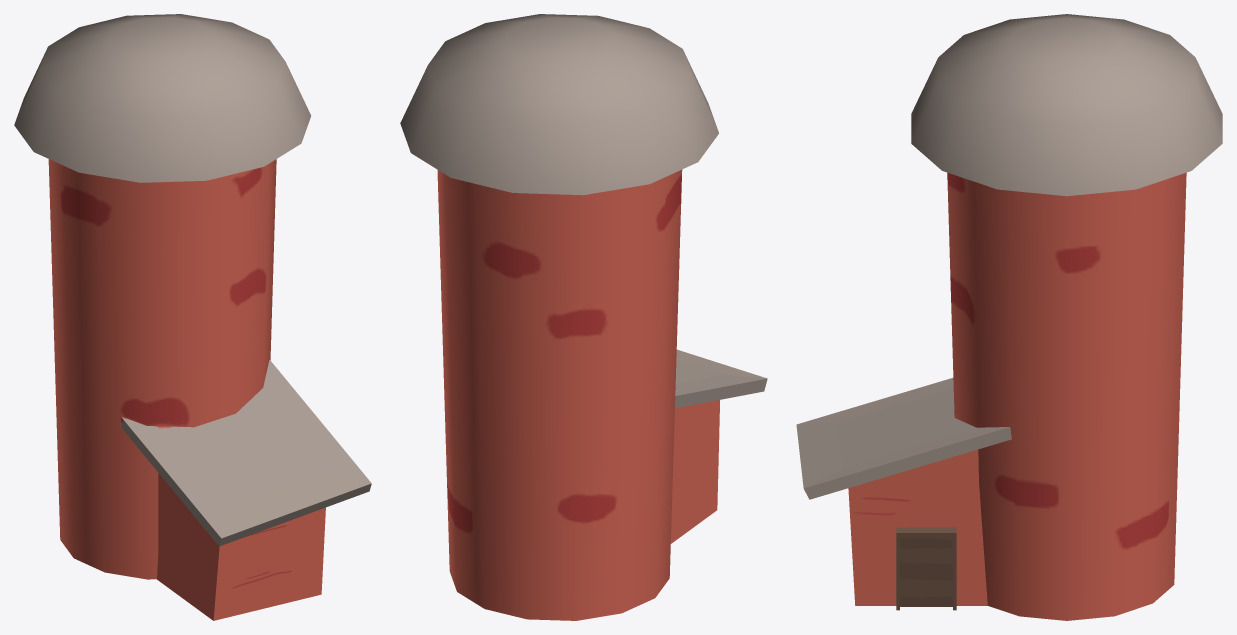
File: FBX_Granero_2.fbx
3 renders of one model, left to right at view 1: azimuth 30°, elevation 25°; view 2: azimuth 150°, elevation 25°; view 3: azimuth 270°, elevation 25°, orthographic. The views are drawn at different scales.
Visible parts, largest first — view 1: pCylinder27; view 2: pCylinder27; view 3: pCylinder27.
Part boxes in pixels (box(x1,y1,x2,y2)): pCylinder27: box(14, 14, 371, 620); pCylinder27: box(400, 14, 767, 620); pCylinder27: box(796, 14, 1222, 620).
Size of the model in its own units: 180 by 331 by 240.
